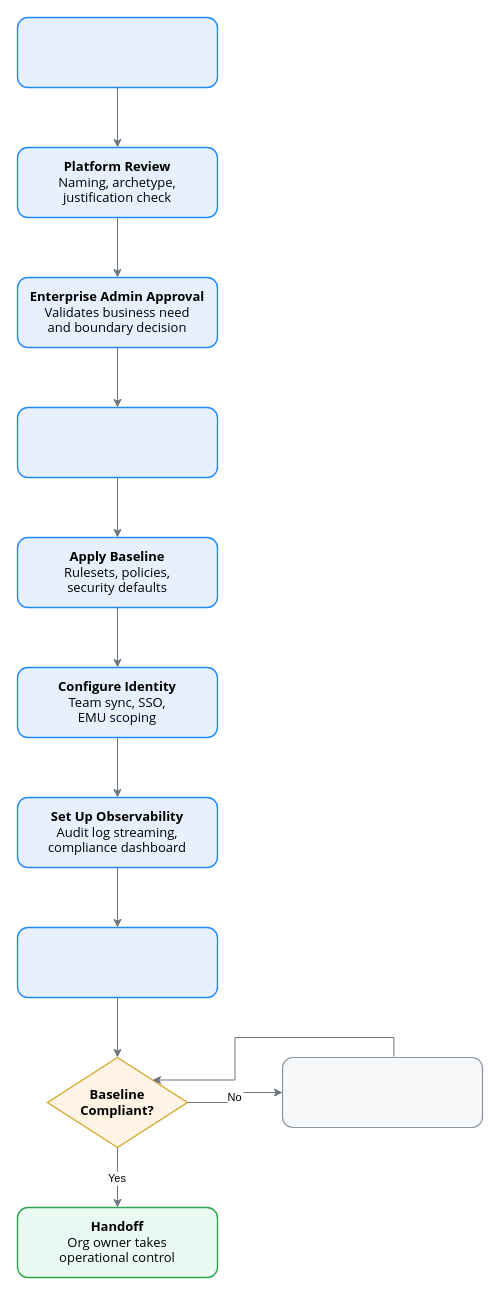
Some shapes in this 501 by 1296 pixel diagram are drawn without their labels. Each missing label, with the centre of its shape:
"Assign Ownership Org owner and initial teams" goes at (x=117, y=962).
"Provision Organization Platform team creates org manually or via IaC" goes at (x=117, y=442).
"Remediate Fix gaps with platform support" goes at (x=382, y=1092).
"Submit Request Org request via service catalog in cockpit org" goes at (x=117, y=52).
